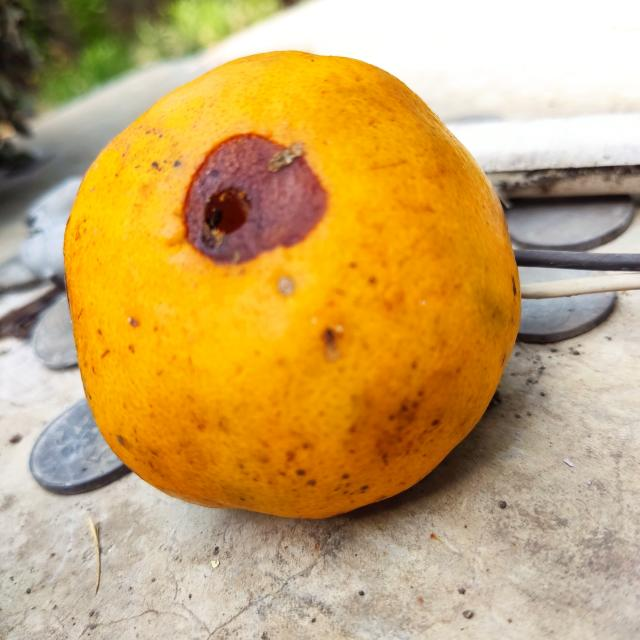orange: (61, 47, 519, 522)
